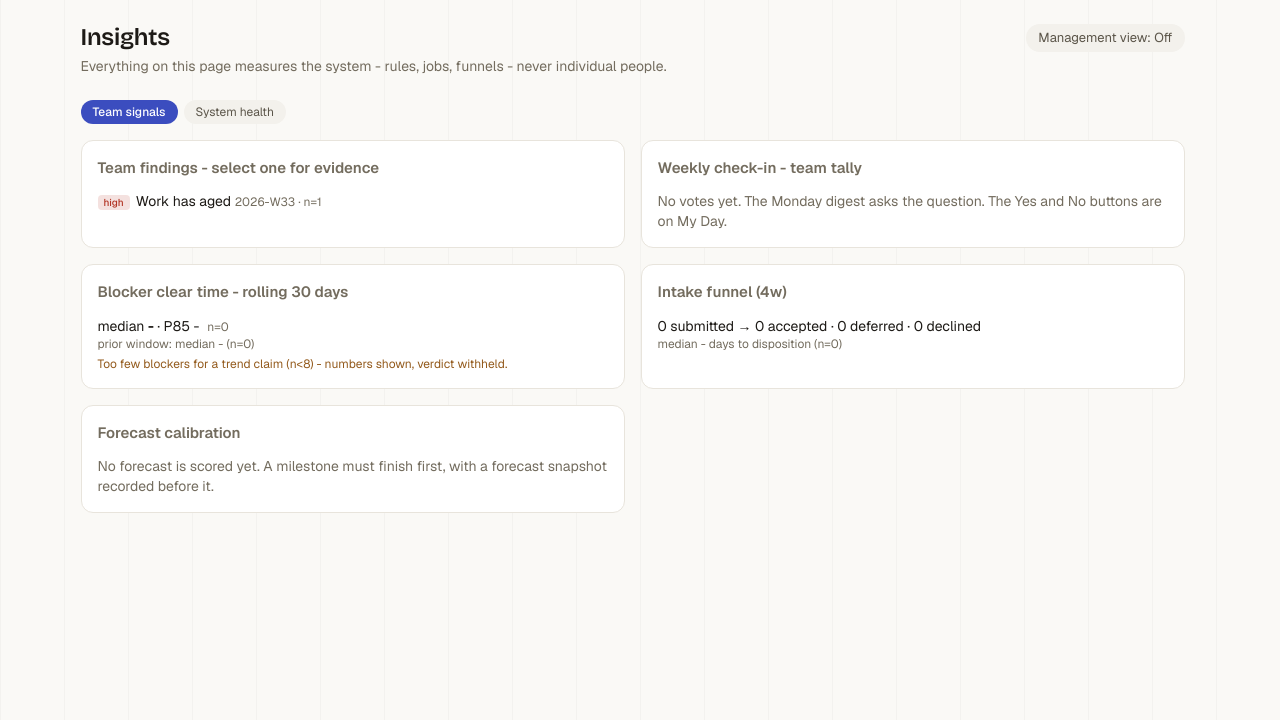
it: an Insights read that fails › keeps the last good page when the reload after a write fails
The width and height of the screenshot is (1280, 720).
Click the button "Work has aged" at (210, 201), box [98,191,322,211]
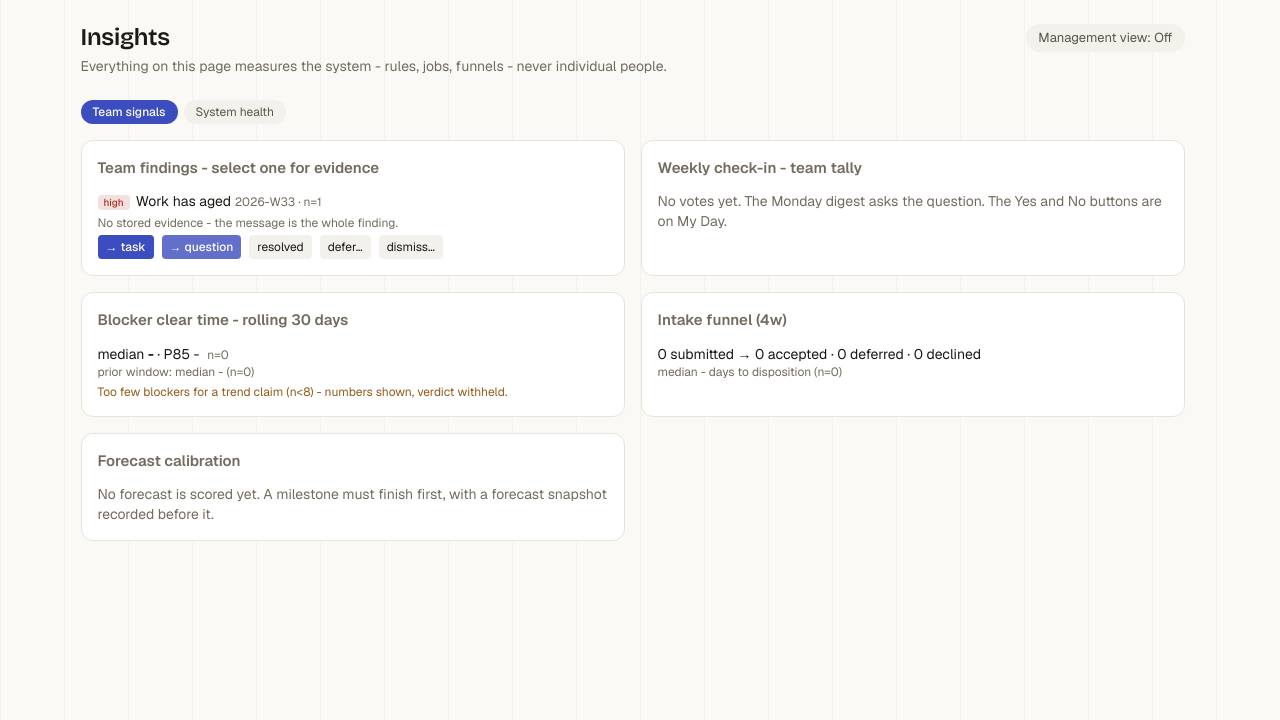
Click the button "resolved" at (280, 247), box [249,235,312,259]
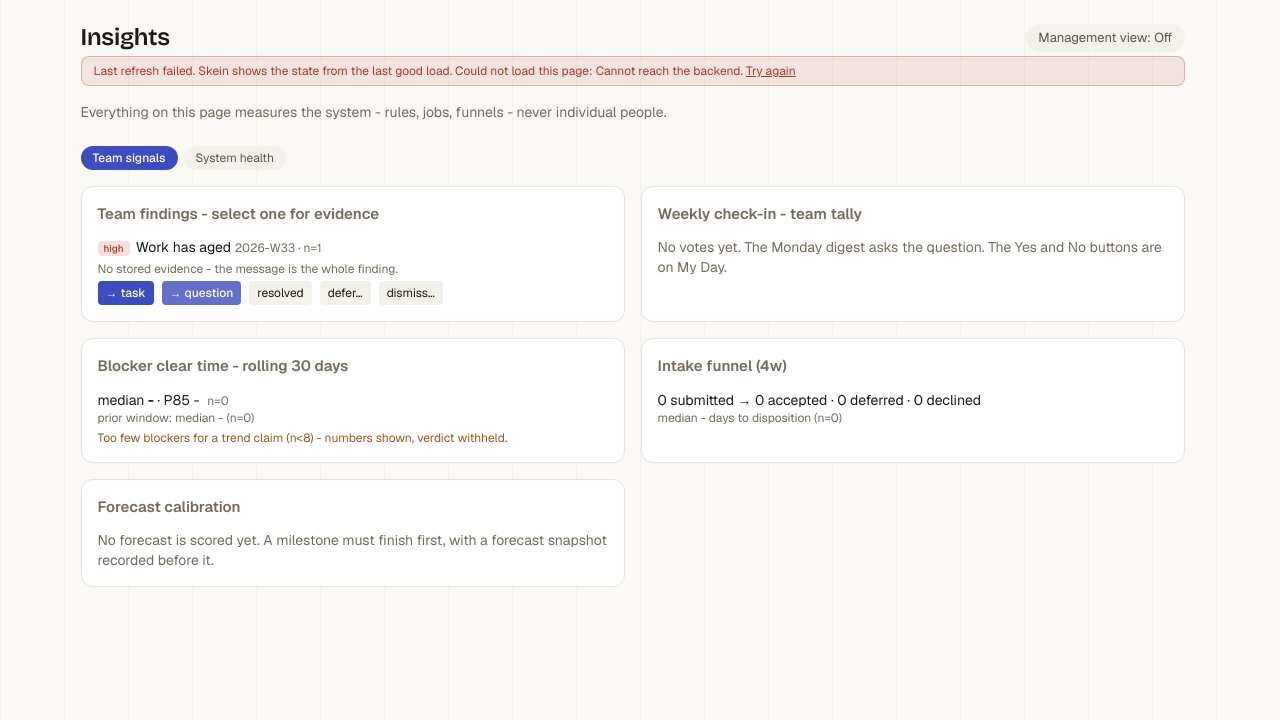
Expected: the button "Work has aged" is shown, [98,237,322,257]
Expected: the text "Last refresh failed" is shown, [94,63,452,79]
Click the button "Try again" at (771, 71), box [746,63,796,79]
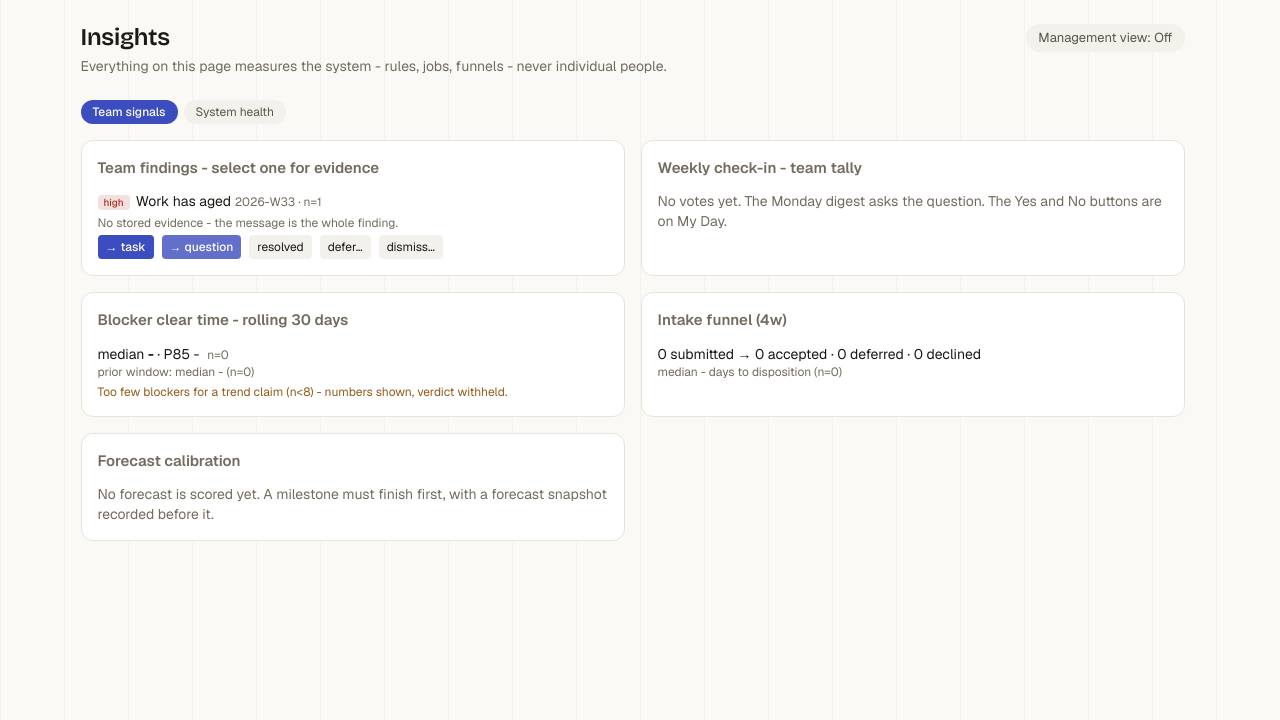
Expected: the text "Last refresh failed" is gone
